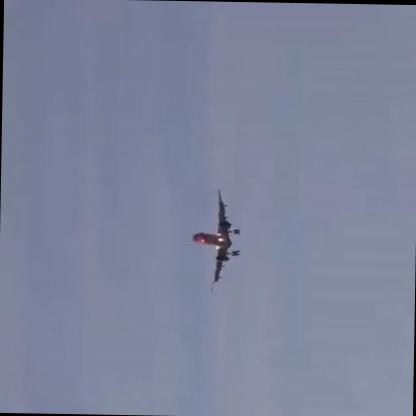plane: (188, 187, 242, 294)
